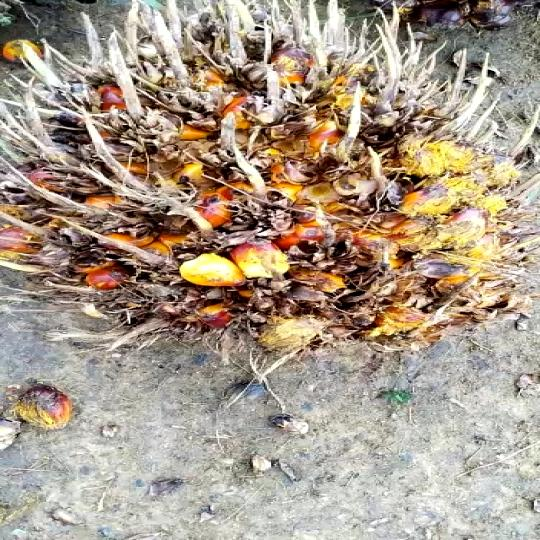terlalu masak: (0, 0, 540, 363)
